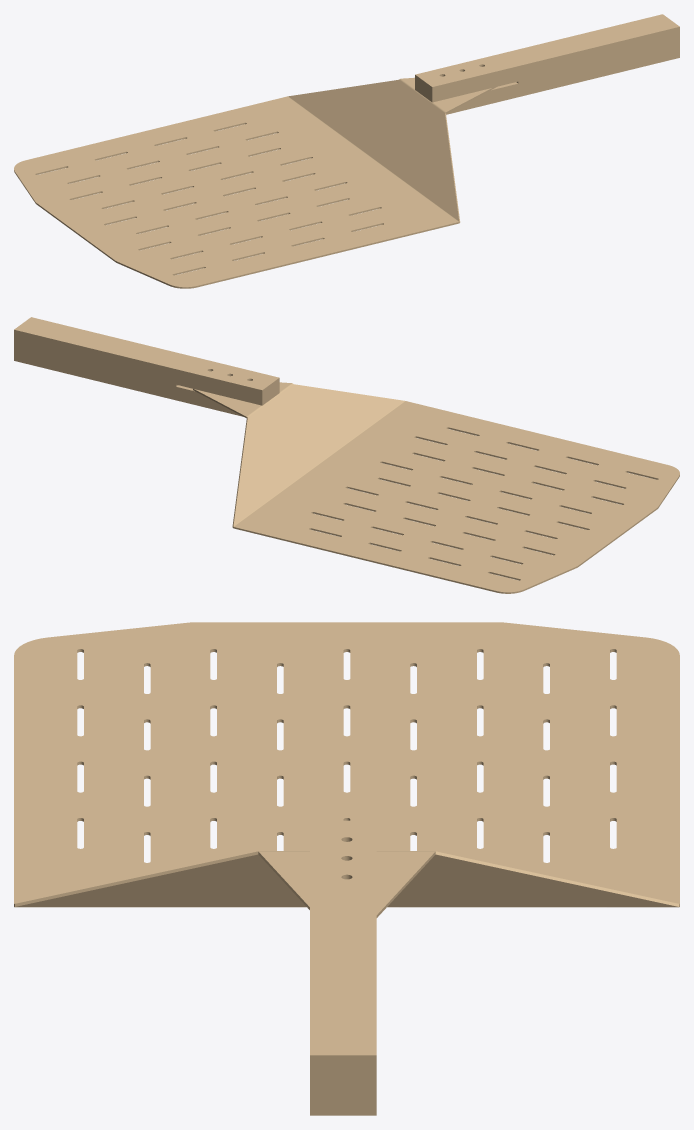
The model's file is PizzaPeel.dae.
The picture shows the model from 3 angles, top to bottom: view 1: azimuth 30°, elevation 25°; view 2: azimuth 150°, elevation 25°; view 3: azimuth 270°, elevation 25°; orthographic projection. The views are drawn at different scales.
Visible parts, largest first — view 1: PizzaPeel; view 2: PizzaPeel; view 3: PizzaPeel.
Boxes of the visible parts, x1,y1,x2,y2 form: PizzaPeel: (14, 14, 679, 288); PizzaPeel: (14, 317, 679, 593); PizzaPeel: (14, 622, 679, 1115).
Bounding box in the file's own units: 0.6001 × 0.3 × 0.0661.
